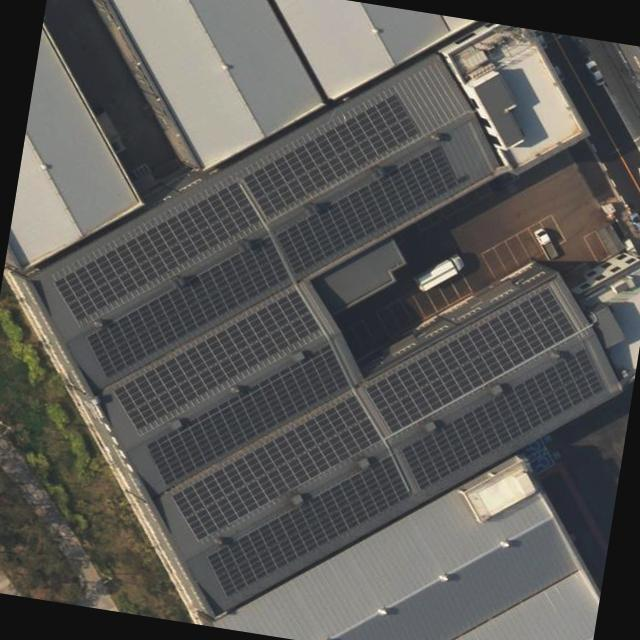solar: (162, 368, 392, 566), (106, 261, 334, 459), (137, 316, 361, 516), (78, 207, 300, 406), (48, 150, 270, 348), (361, 260, 582, 457), (198, 428, 416, 626), (394, 324, 609, 520), (236, 70, 428, 242)
